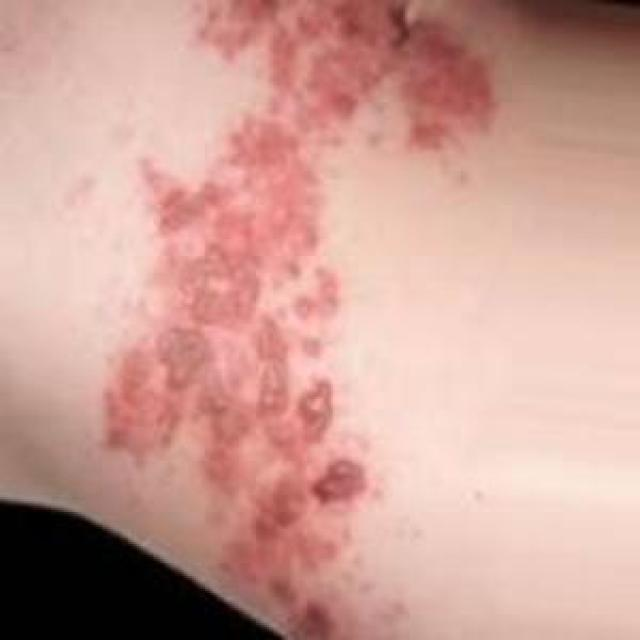Shingles: (99, 0, 495, 639)
